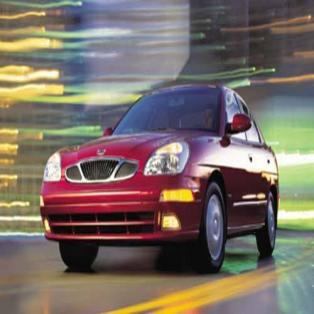Auto: (38, 82, 282, 272)
